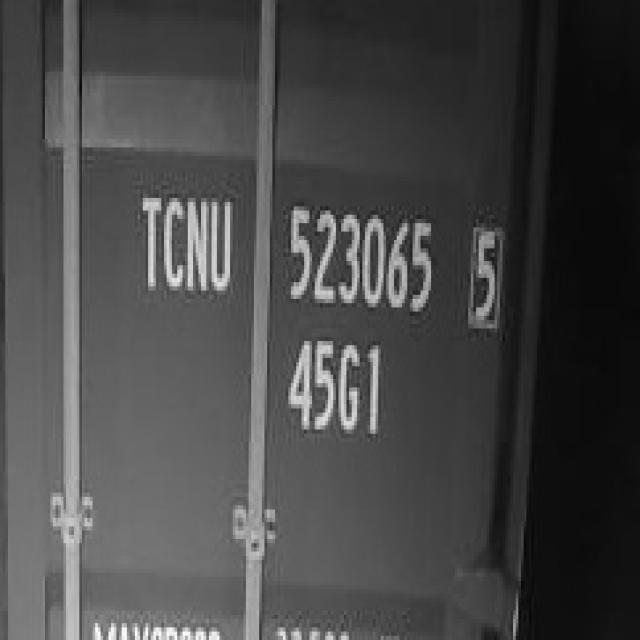dv: (458, 211, 512, 335)
owner: (127, 174, 235, 304)
serial: (278, 199, 436, 320)
size: (280, 328, 389, 449)
